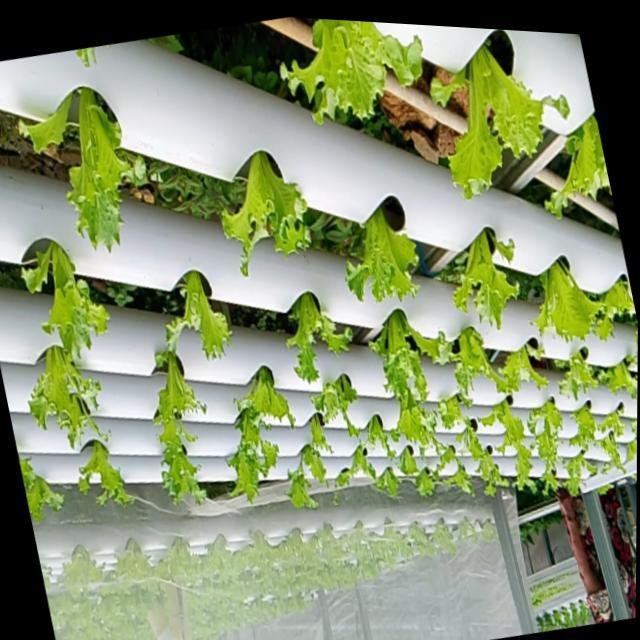Baby: (437, 47, 576, 200), (287, 19, 430, 123), (73, 86, 150, 251), (225, 149, 316, 275), (27, 240, 114, 359), (157, 341, 209, 502), (350, 195, 424, 300), (34, 344, 108, 447), (456, 226, 524, 327), (537, 259, 607, 344), (443, 325, 523, 399), (291, 290, 356, 381), (170, 269, 235, 358), (232, 407, 281, 500), (315, 372, 377, 434), (239, 364, 299, 424), (83, 438, 137, 504), (531, 397, 567, 487), (394, 387, 441, 453), (14, 435, 42, 491), (566, 453, 600, 495), (575, 404, 601, 450), (603, 431, 627, 470), (441, 395, 468, 429), (440, 442, 464, 473)
